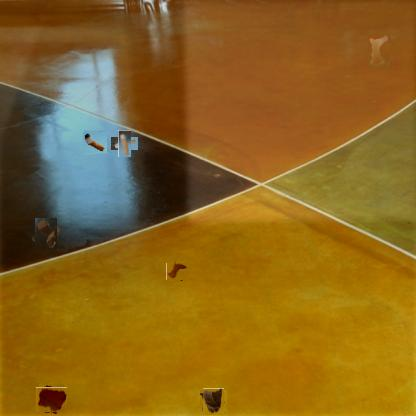dirty: (32, 220, 60, 247), (201, 389, 226, 414), (83, 130, 107, 154), (167, 262, 187, 281), (115, 134, 134, 153)
liquid: (37, 386, 66, 414), (368, 34, 390, 68)
